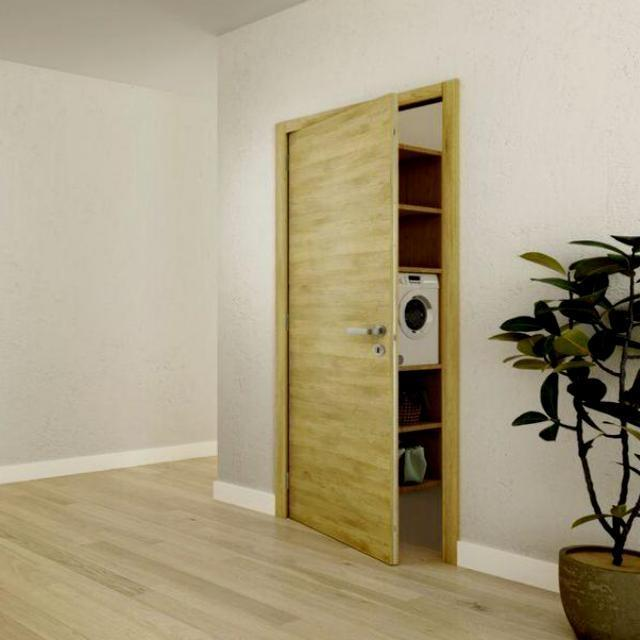door: (269, 88, 409, 576)
